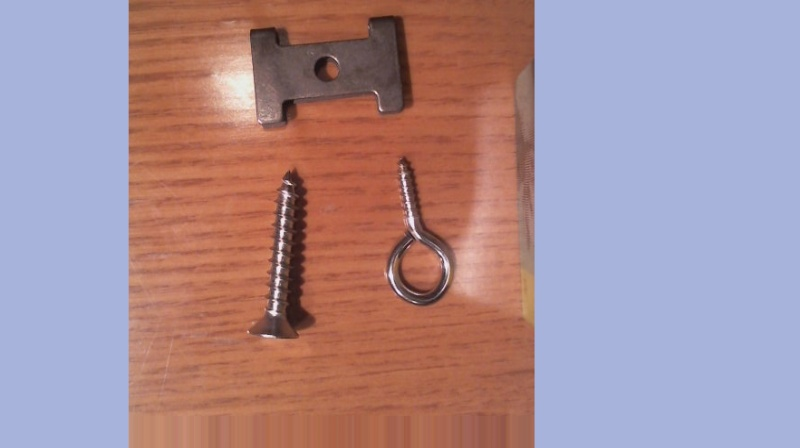O001: (380, 149, 459, 308)
O002: (245, 10, 411, 124)
S001: (245, 165, 308, 343)
